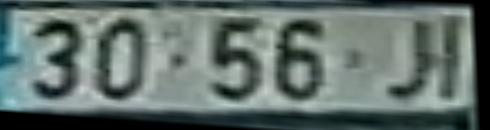0: (89, 15, 153, 106)
3: (25, 19, 88, 104)
5: (205, 16, 270, 106)
6: (271, 15, 334, 106)
I: (438, 13, 466, 104)
J: (378, 18, 438, 103)
